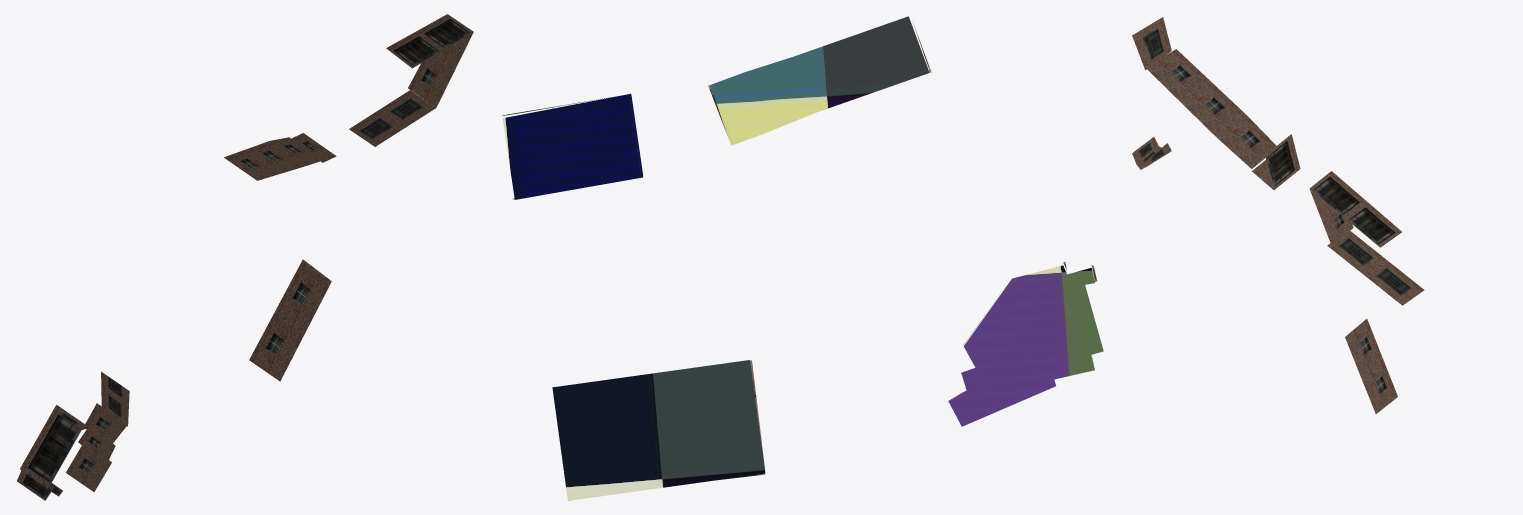
Rendered from tile_LOD4_r9_c8.glb.
The picture shows the model from 3 angles, left to right: view 1: azimuth 30°, elevation 25°; view 2: azimuth 150°, elevation 25°; view 3: azimuth 270°, elevation 25°; orthographic projection. The views are drawn at different scales.
Bounding box in the file's own units: 63.75 × 49.75 × 42.5.
Materials: 7 (7 with a texture image).
